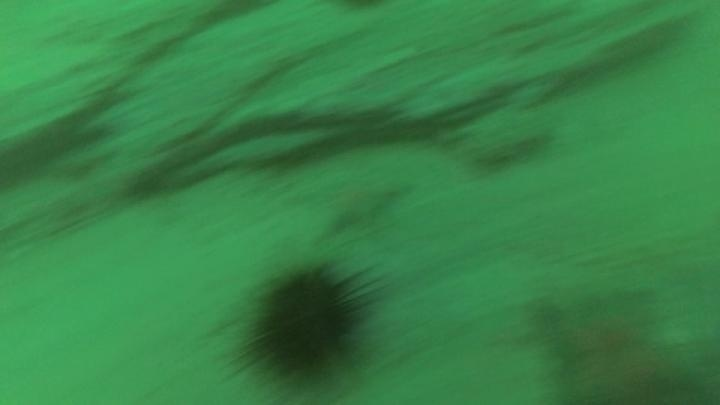echinus: (235, 254, 381, 389)
starfish: (525, 284, 715, 405), (289, 161, 410, 243)
